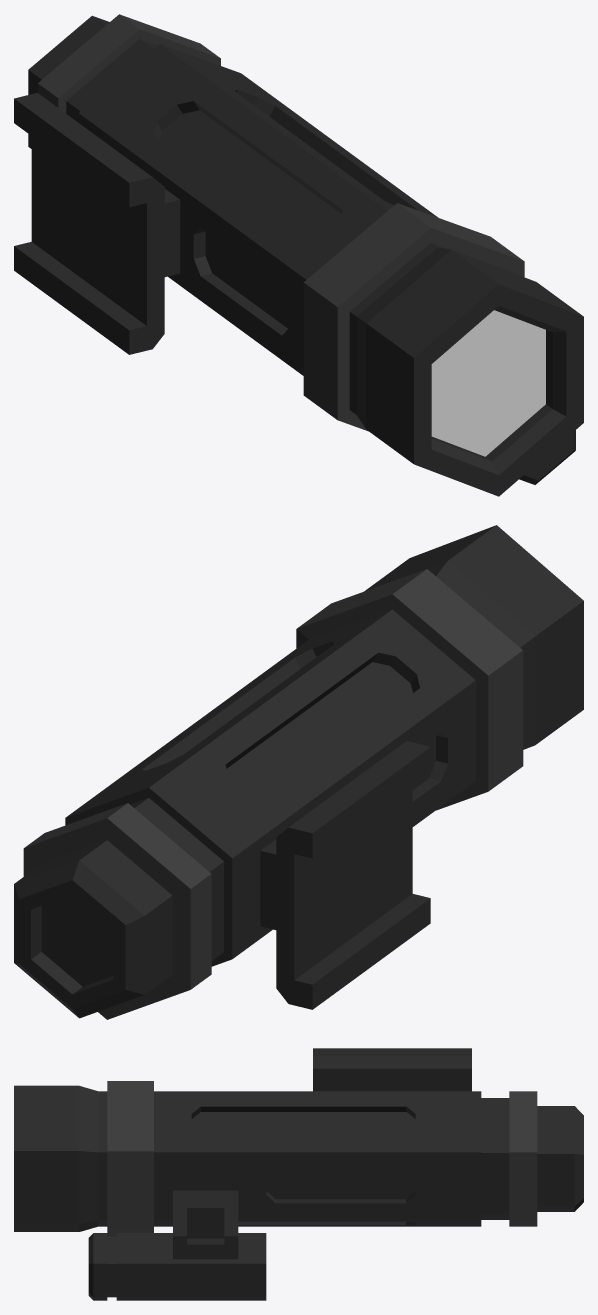
The model's file is Light_D_Left.fbx.
3 renders of one model, top to bottom at view 1: azimuth 30°, elevation 25°; view 2: azimuth 150°, elevation 25°; view 3: azimuth 270°, elevation 25°, orthographic. The views are drawn at different scales.
Parts seen in each view (by area): view 1: Light_D_Left; view 2: Light_D_Left; view 3: Light_D_Left.
Boxes of the visible parts, x1,y1,x2,y2 form: Light_D_Left: (14,14,583,496); Light_D_Left: (14,525,583,1019); Light_D_Left: (14,1048,583,1300).
Bounding box in the file's own units: 0.0612 × 0.0555 × 0.1525.
